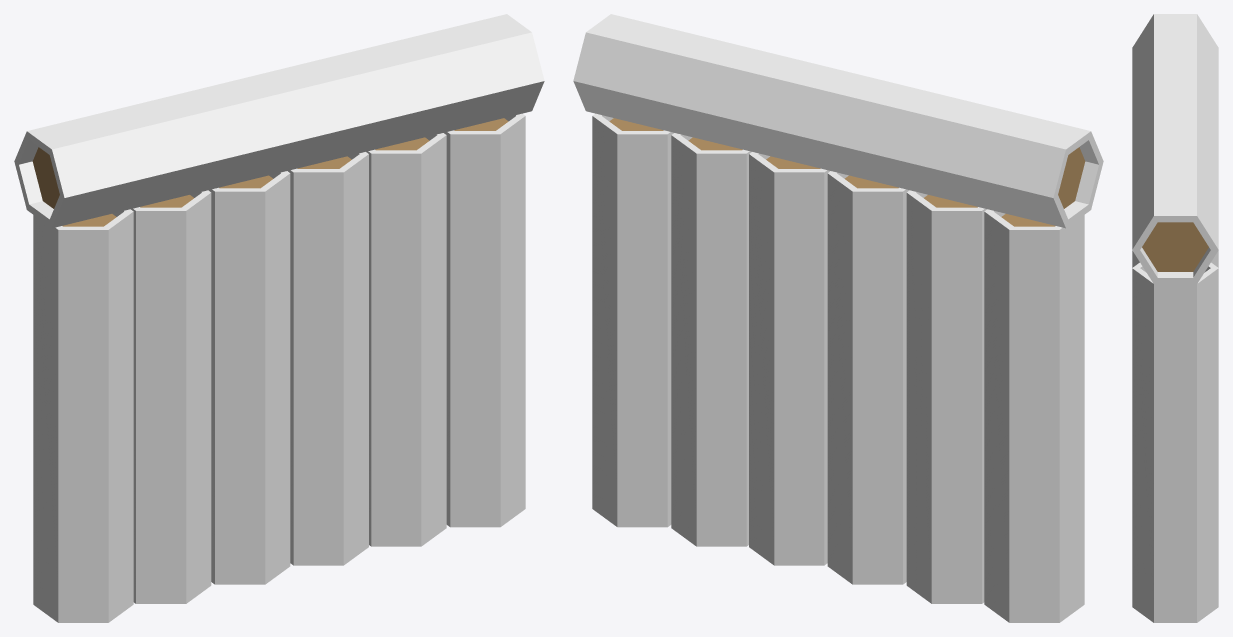
File: QuarryReinforcement.fbx
3 renders of one model, left to right at view 1: azimuth 30°, elevation 25°; view 2: azimuth 150°, elevation 25°; view 3: azimuth 270°, elevation 25°, orthographic. The views are drawn at different scales.
Parts seen in each view (by area): view 1: QuarryReinforcement; view 2: QuarryReinforcement; view 3: QuarryReinforcement.
Boxes of the visible parts, x1,y1,x2,y2 form: QuarryReinforcement: (14,14,544,622); QuarryReinforcement: (573,14,1103,622); QuarryReinforcement: (1132,14,1218,622).
Bounding box in the file's own units: 4.91 × 4.64 × 0.8894.
